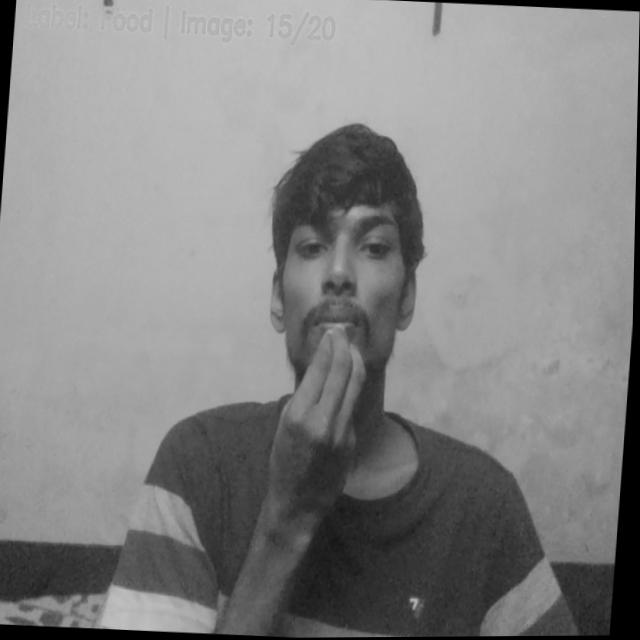Food: (267, 323, 373, 521)
